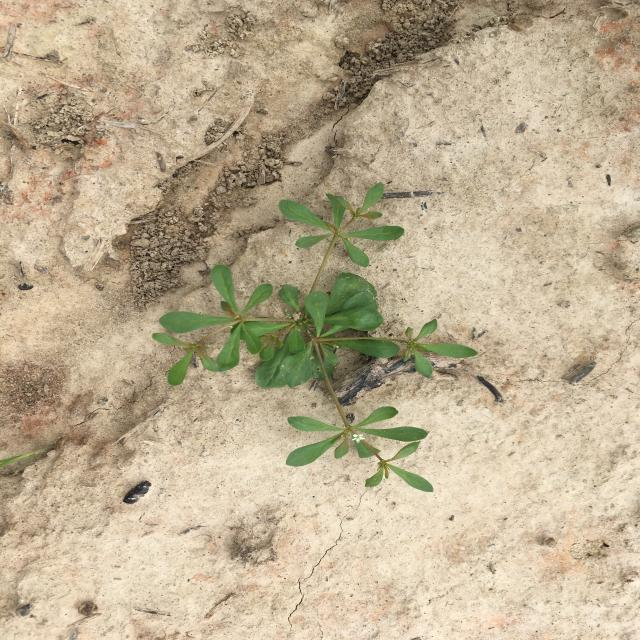Carpetweed: (152, 182, 478, 492)
